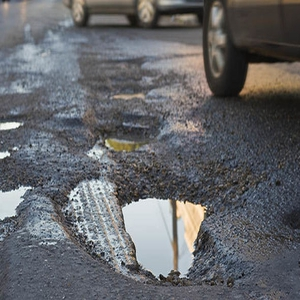pothole: (53, 174, 234, 289), (96, 127, 155, 157)
